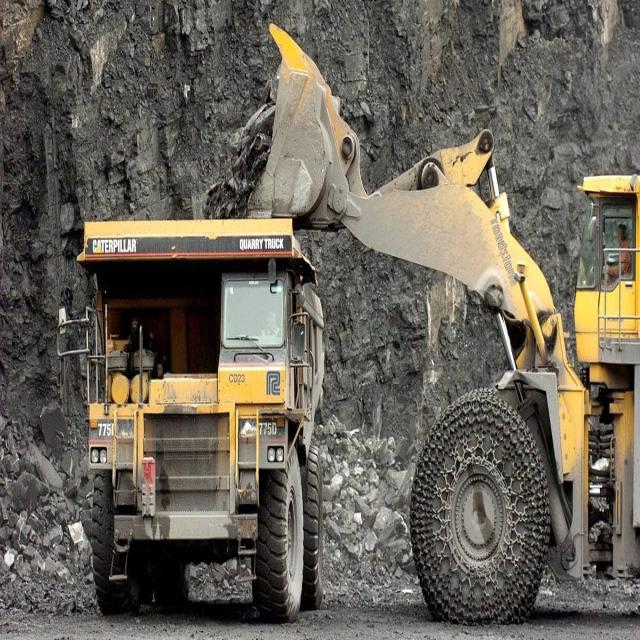buldozerpayloadergrader: (264, 11, 630, 618)
dump_truck: (76, 206, 325, 605)
